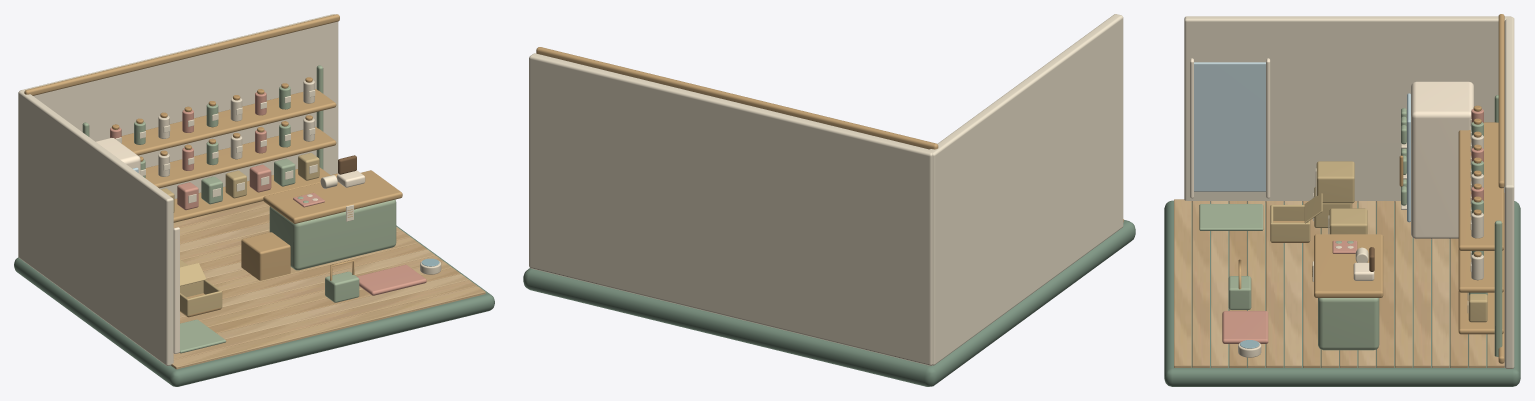
File: store.glb
3 renders of one model, left to right at view 1: azimuth 30°, elevation 25°; view 2: azimuth 150°, elevation 25°; view 3: azimuth 270°, elevation 25°, orthographic. The views are drawn at different scales.
Parts seen in each view (by area): view 1: shell--奶油墙面, groceries--浅橡木, shell--地台侧面, shell--木地板0, shell--木地板1, checkout--沙发鼠尾草绿, checkout--浅橡木, shell--木地板2, shell--木地板3, groceries--沙发鼠尾草绿, shell--浅橡木, groceries--蜜桃织物 (+9 smaller); view 2: shell--奶油墙面, shell--地台侧面, shell--浅橡木; view 3: shell--奶油墙面, shell--地台侧面, entrance--窗外蓝, shell--木地板0, fridge--米白木框, shell--木地板1, shell--木地板2, shell--木地板3, groceries--浅橡木, delivery--书皮, checkout--浅橡木, checkout--沙发鼠尾草绿 (+13 smaller).
Part boxes in pixels (bbox=[...]): shell--奶油墙面: bbox=[18, 14, 338, 365]; groceries--浅橡木: bbox=[121, 89, 336, 222]; shell--地台侧面: bbox=[14, 225, 494, 386]; shell--木地板0: bbox=[171, 206, 485, 369]; shell--木地板1: bbox=[173, 201, 476, 359]; checkout--沙发鼠尾草绿: bbox=[269, 196, 396, 270]; checkout--浅橡木: bbox=[241, 170, 402, 280]; shell--木地板2: bbox=[180, 222, 468, 339]; shell--木地板3: bbox=[180, 214, 460, 333]; groceries--沙发鼠尾草绿: bbox=[82, 65, 323, 204]; shell--浅橡木: bbox=[24, 14, 339, 177]; groceries--蜜桃织物: bbox=[110, 92, 271, 210]; shell--奶油墙面: bbox=[529, 14, 1123, 365]; shell--地台侧面: bbox=[523, 220, 1135, 386]; shell--浅橡木: bbox=[536, 47, 938, 149]; shell--奶油墙面: bbox=[1184, 16, 1514, 368]; shell--地台侧面: bbox=[1164, 200, 1520, 386]; entrance--窗外蓝: bbox=[1194, 62, 1265, 191]; shell--木地板0: bbox=[1174, 199, 1486, 367]; fridge--米白木框: bbox=[1411, 81, 1474, 239]; shell--木地板1: bbox=[1192, 201, 1504, 367]; shell--木地板2: bbox=[1211, 201, 1449, 367]; shell--木地板3: bbox=[1229, 201, 1467, 367]; groceries--浅橡木: bbox=[1458, 122, 1503, 334]; delivery--书皮: bbox=[1270, 161, 1367, 241]; checkout--浅橡木: bbox=[1312, 234, 1383, 297]; checkout--沙发鼠尾草绿: bbox=[1318, 241, 1379, 350].
Bounding box in the file's own units: 6.7 × 3.68 × 5.8.
Materials: 17 (4 with a texture image).
